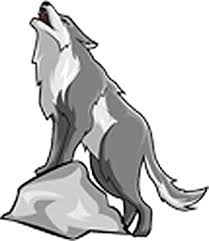Lobo: (17, 1, 173, 202)
